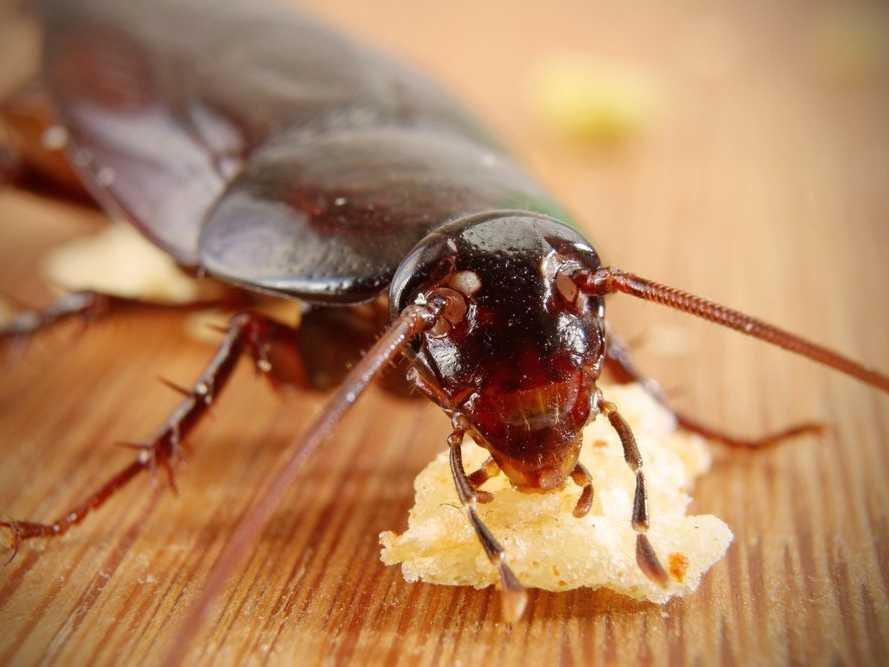cockroach: (36, 4, 636, 526)
